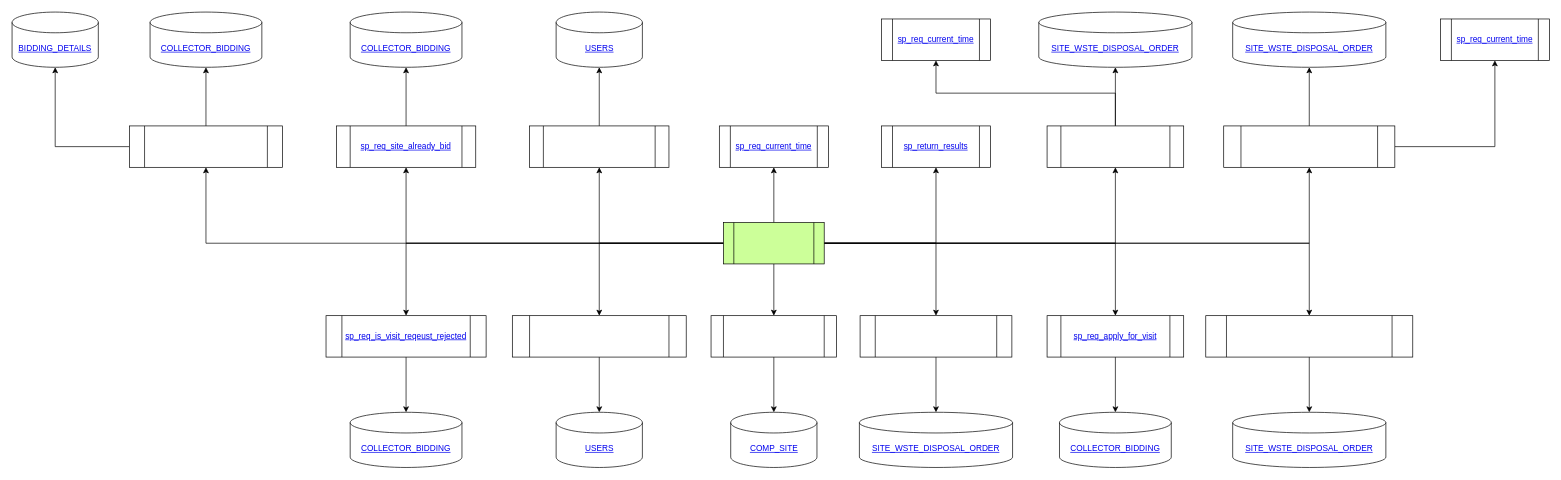
Some shapes in this 1561 by 480 pixel diagram are drawn without their labels. The box of each missing label's shape, as (x1, y1, x2, y2) in pixels:
sp_apply_bidding: (723, 222, 824, 264)
sp_get_duty_to_apply_for_visit: (859, 315, 1012, 357)
sp_insert_collector_wste_lists: (129, 125, 283, 167)
sp_req_bidding_end_date_expired: (1223, 125, 1395, 167)
sp_req_is_bidding_schedule_close_early: (1205, 315, 1413, 357)
sp_req_is_site_collector: (710, 315, 837, 357)
sp_req_user_class_by_user_reg_id: (512, 315, 686, 357)
sp_req_user_exists_by_id: (529, 125, 669, 167)
sp_req_visit_date_expired: (1046, 125, 1184, 167)
